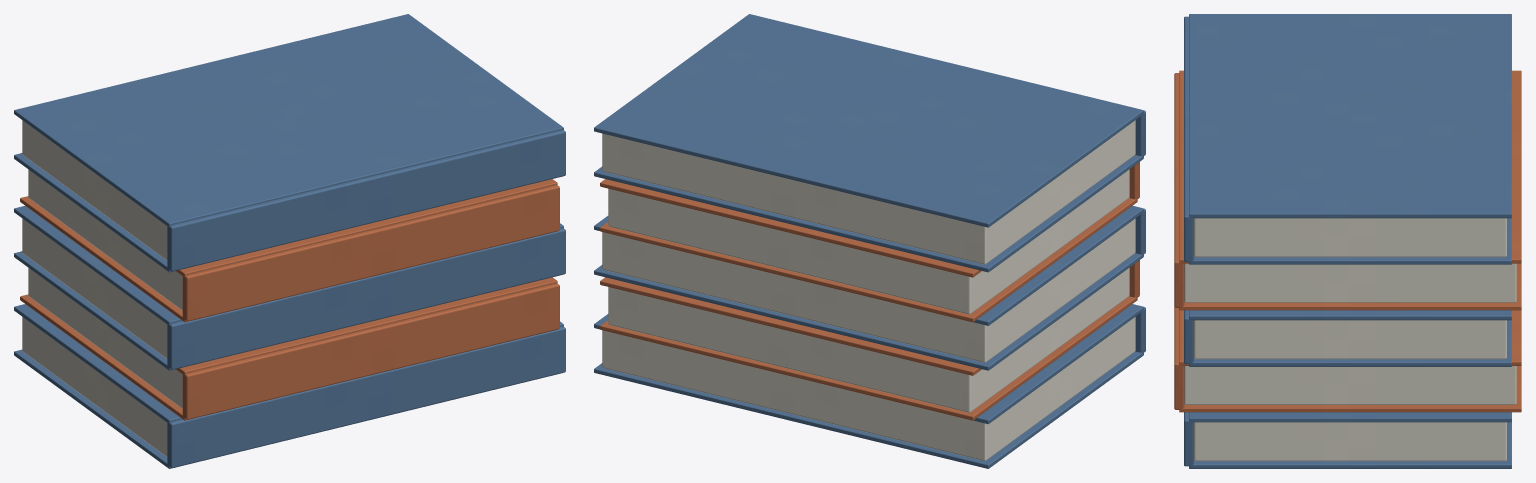
The model's file is study-books.glb.
The picture shows the model from 3 angles, left to right: view 1: azimuth 30°, elevation 25°; view 2: azimuth 150°, elevation 25°; view 3: azimuth 270°, elevation 25°; orthographic projection. The views are drawn at different scales.
Parts seen in each view (by area): view 1: Stacked book cover.009, Stacked book spine.004, Stacked book spine, Stacked book spine.002, Stacked book spine.003, Stacked book spine.001, Stacked book page block, Stacked book page block.004, Stacked book page block.002, Stacked book page block.001, Stacked book page block.003, Stacked book cover.003 (+8 smaller); view 2: Stacked book cover.009, Stacked book page block.004, Stacked book page block.002, Stacked book page block, Stacked book page block.001, Stacked book page block.003, Stacked book cover, Stacked book cover.004, Stacked book cover.008, Stacked book cover.002, Stacked book cover.006, Stacked book cover.003 (+3 smaller); view 3: Stacked book cover.009, Stacked book page block.003, Stacked book page block.001, Stacked book page block, Stacked book page block.002, Stacked book page block.004, Stacked book cover.001, Stacked book cover.005, Stacked book cover.006, Stacked book cover.002, Stacked book cover.007, Stacked book cover.004 (+8 smaller).
Boxes of the visible parts, x1,y1,x2,y2 form: Stacked book cover.009: (14, 14, 563, 226); Stacked book spine.004: (167, 130, 565, 271); Stacked book spine: (167, 326, 565, 468); Stacked book spine.002: (167, 228, 565, 369); Stacked book spine.003: (182, 185, 559, 321); Stacked book spine.001: (182, 283, 559, 419); Stacked book page block: (22, 317, 167, 456); Stacked book page block.004: (22, 120, 167, 260); Stacked book page block.002: (22, 218, 167, 358); Stacked book page block.001: (28, 268, 182, 408); Stacked book page block.003: (28, 169, 182, 310); Stacked book cover.003: (21, 251, 557, 374); Stacked book cover.009: (594, 14, 1143, 227); Stacked book page block.004: (602, 120, 1135, 264); Stacked book page block.002: (602, 218, 1135, 362); Stacked book page block: (602, 317, 1135, 461); Stacked book page block.001: (608, 268, 1129, 412); Stacked book page block.003: (608, 169, 1129, 314); Stacked book cover: (594, 351, 1143, 468); Stacked book cover.004: (594, 253, 1143, 370); Stacked book cover.008: (594, 155, 1143, 272); Stacked book cover.002: (600, 296, 1137, 420); Stacked book cover.006: (600, 198, 1137, 322); Stacked book cover.003: (600, 277, 981, 375); Stacked book cover.009: (1189, 14, 1511, 218); Stacked book page block.003: (1184, 263, 1516, 302); Stacked book page block.001: (1184, 366, 1516, 404); Stacked book page block: (1194, 422, 1506, 461); Stacked book page block.002: (1194, 320, 1506, 359); Stacked book page block.004: (1194, 218, 1506, 257); Stacked book cover.001: (1189, 412, 1511, 422); Stacked book cover.005: (1189, 310, 1511, 320); Stacked book cover.006: (1179, 263, 1521, 310); Stacked book cover.002: (1179, 366, 1521, 412); Stacked book cover.007: (1179, 70, 1521, 263); Stacked book cover.004: (1189, 320, 1511, 366).
Bounding box in the file's own units: 0.286 × 0.17 × 0.2097.
3 materials, 3 textured.
